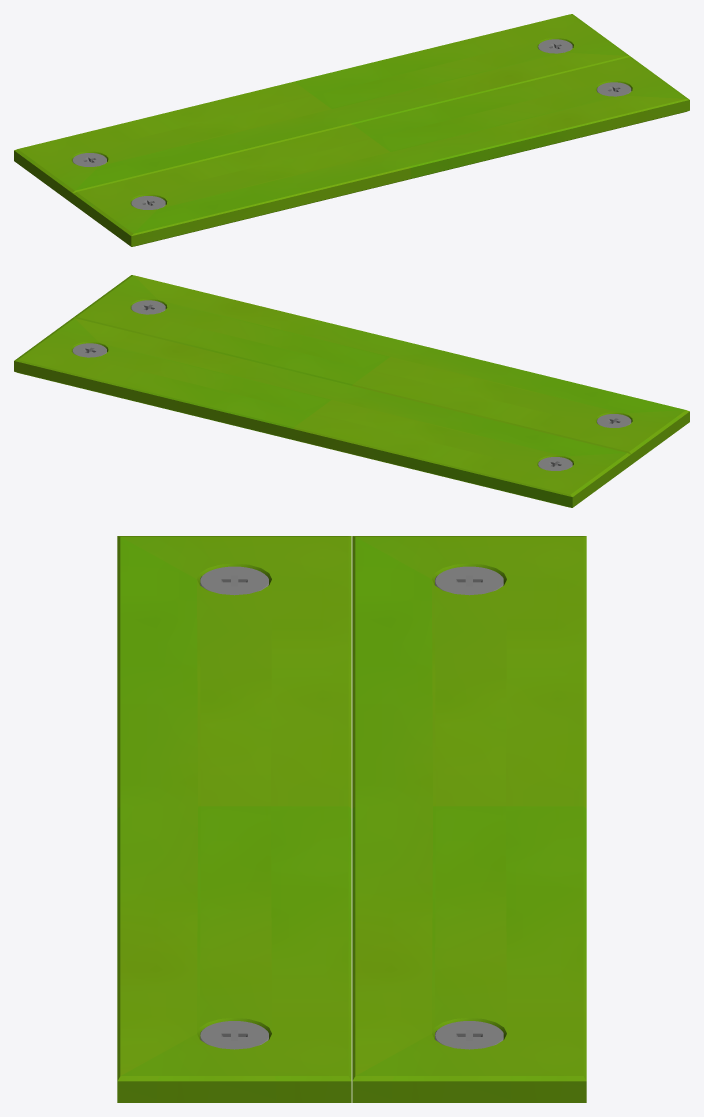
The model's file is DoubleBoltedPlankGreen.fbx.
The picture shows the model from 3 angles, top to bottom: view 1: azimuth 30°, elevation 25°; view 2: azimuth 150°, elevation 25°; view 3: azimuth 270°, elevation 25°; orthographic projection. The views are drawn at different scales.
Visible parts, largest first — view 1: Cube, Cube.001; view 2: Cube, Cube.001; view 3: Cube, Cube.001.
Boxes of the visible parts, box(x1,y1,x2,y2) form: Cube: box(14, 14, 689, 246); Cube.001: box(72, 39, 631, 209); Cube: box(14, 275, 689, 507); Cube.001: box(72, 300, 631, 470); Cube: box(117, 536, 586, 1102); Cube.001: box(200, 566, 503, 1049).
Bounding box in the file's own units: 21.97 × 0.4885 × 7.99.
